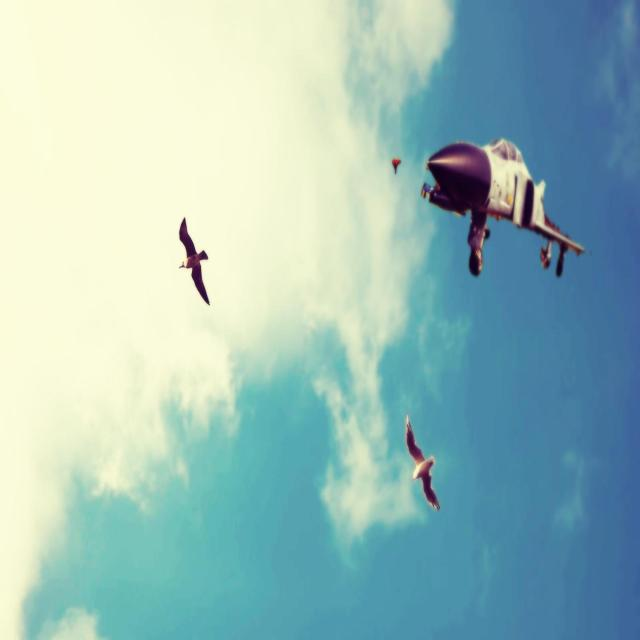airplane: (420, 136, 586, 278)
